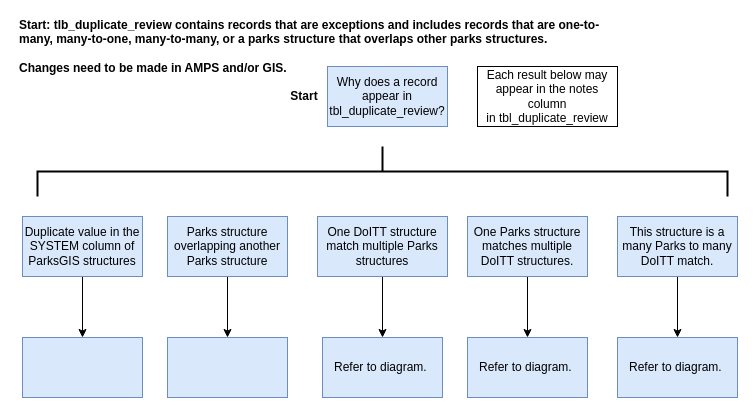
Some shapes in this 755 by 415 pixel diagram are drawn without their labels. The centre of each missing label's shape, as x and y in pixels:
"Refer to diagram" belongs at [82,367].
"Refer to diagram ." belongs at [227,367].
